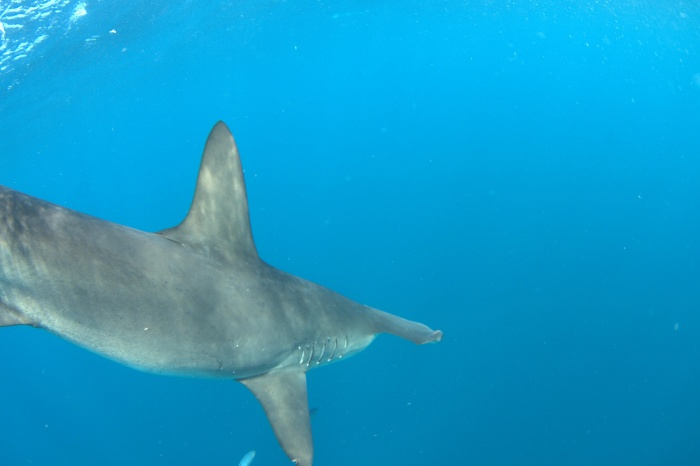Hammer: (10, 104, 522, 466)
